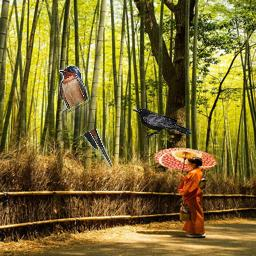Crow: (132, 108, 192, 138)
Swallow: (59, 65, 112, 167)
